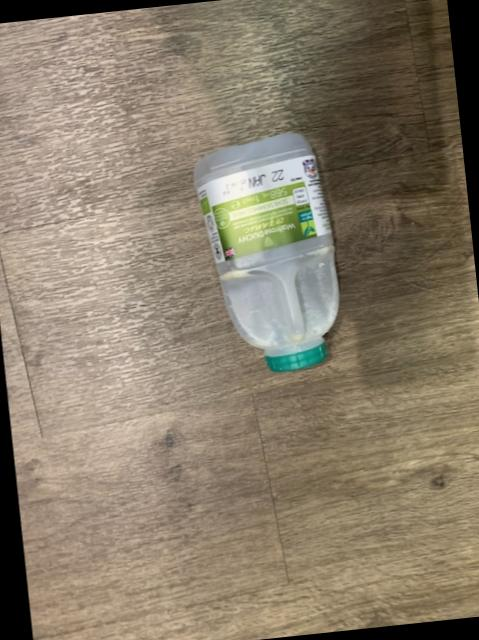plastic: (195, 135, 340, 373)
